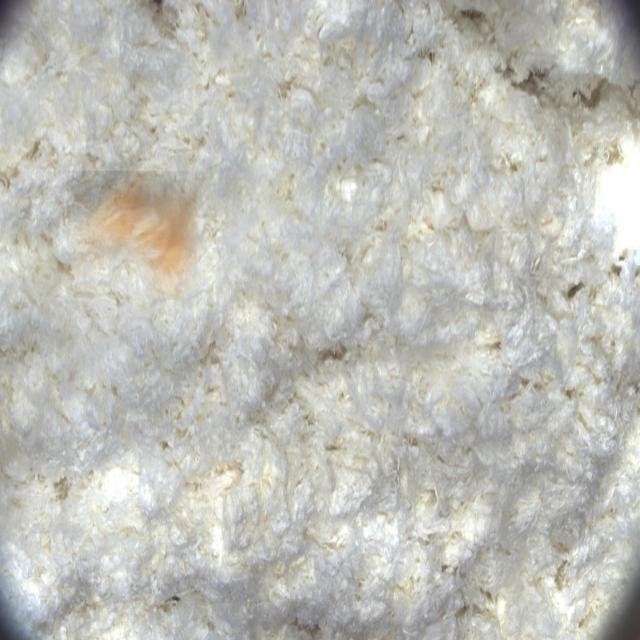dust: (67, 171, 197, 300)
